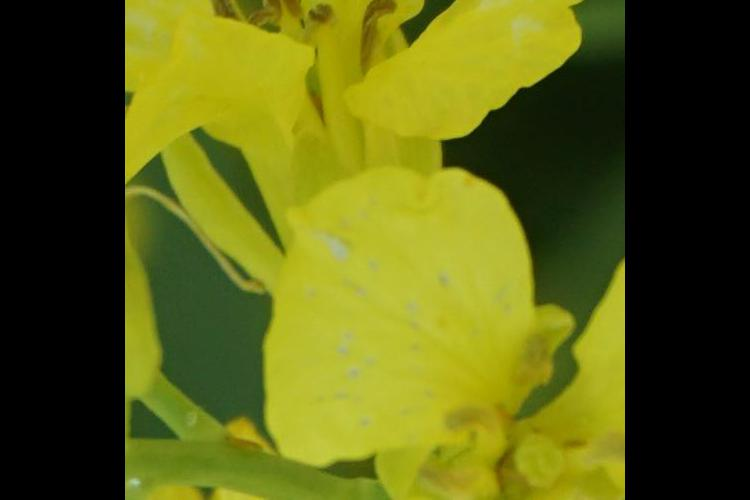yellow: (154, 1, 582, 257), (270, 243, 622, 500)
